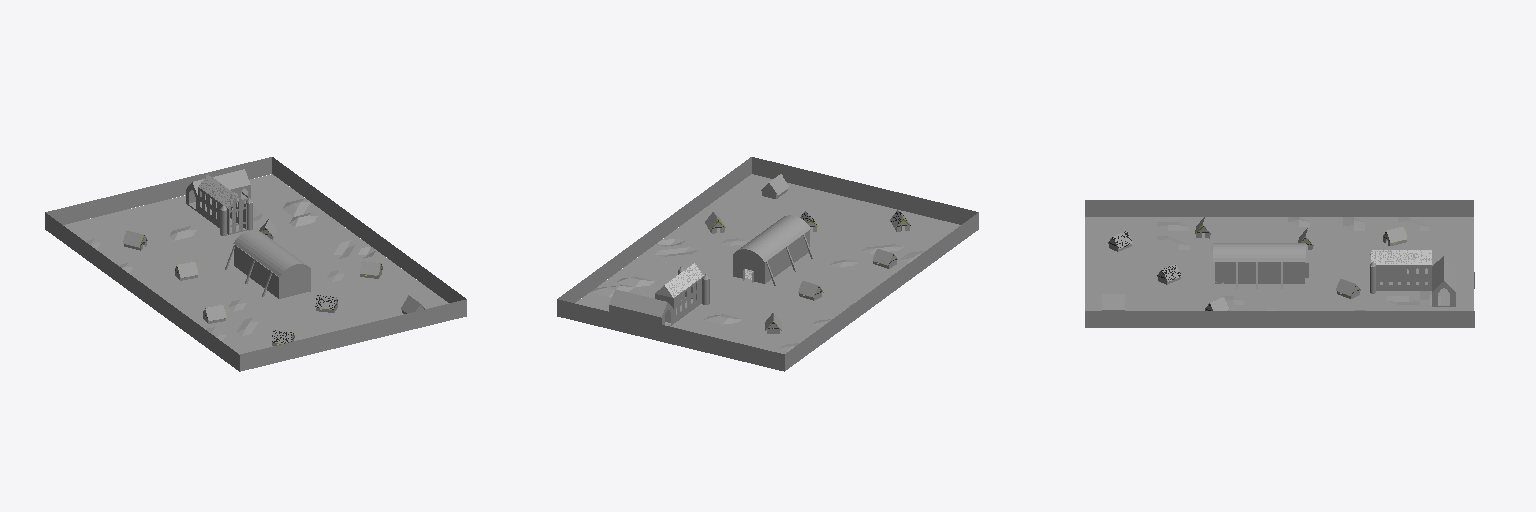
Rendered from village.obj.
3 views of the same model, side by side, from view 1: azimuth 30°, elevation 25°; view 2: azimuth 150°, elevation 25°; view 3: azimuth 270°, elevation 25° (orthographic).
Parts seen in each view (by area): view 1: group_0.033_ID275, group_0.231_ID1882, group_0.234_ID1907, group_0.019_ID162, group_0_ID3, group_0.237_ID1932, group_0.042_ID352, group_0.244_ID1990; view 2: group_0.033_ID275, group_0.231_ID1882, group_0.234_ID1907, group_0.019_ID162, group_0_ID3, group_0.237_ID1932, group_0.245_ID2003, group_0.244_ID1990, group_0.042_ID352; view 3: group_0.033_ID275, group_0.231_ID1882, group_0.019_ID162, group_0_ID3, group_0.237_ID1932, group_0.244_ID1990, group_0.245_ID2003.
Boxes of the visible parts, x1=… form: group_0.033_ID275: x1=63, y1=174, x2=448, y2=354; group_0.231_ID1882: x1=45, y1=157, x2=466, y2=371; group_0.234_ID1907: x1=46, y1=157, x2=271, y2=224; group_0.019_ID162: x1=234, y1=246, x2=310, y2=298; group_0_ID3: x1=233, y1=230, x2=308, y2=276; group_0.237_ID1932: x1=186, y1=182, x2=250, y2=234; group_0.042_ID352: x1=278, y1=198, x2=322, y2=226; group_0.244_ID1990: x1=199, y1=174, x2=237, y2=208; group_0.033_ID275: x1=575, y1=174, x2=960, y2=353; group_0.231_ID1882: x1=558, y1=157, x2=978, y2=370; group_0.234_ID1907: x1=557, y1=299, x2=784, y2=371; group_0.019_ID162: x1=733, y1=230, x2=809, y2=283; group_0_ID3: x1=737, y1=215, x2=810, y2=261; group_0.237_ID1932: x1=609, y1=276, x2=703, y2=325; group_0.245_ID2003: x1=609, y1=289, x2=666, y2=317; group_0.244_ID1990: x1=665, y1=263, x2=703, y2=297; group_0.042_ID352: x1=591, y1=275, x2=654, y2=296; group_0.033_ID275: x1=1085, y1=217, x2=1473, y2=310; group_0.231_ID1882: x1=1085, y1=200, x2=1474, y2=327; group_0.019_ID162: x1=1215, y1=262, x2=1304, y2=283; group_0_ID3: x1=1213, y1=243, x2=1305, y2=261; group_0.237_ID1932: x1=1376, y1=265, x2=1455, y2=306; group_0.244_ID1990: x1=1371, y1=250, x2=1431, y2=264; group_0.245_ID2003: x1=1432, y1=256, x2=1455, y2=291.
Size of the model in its own units: 3169 by 530 by 4699.